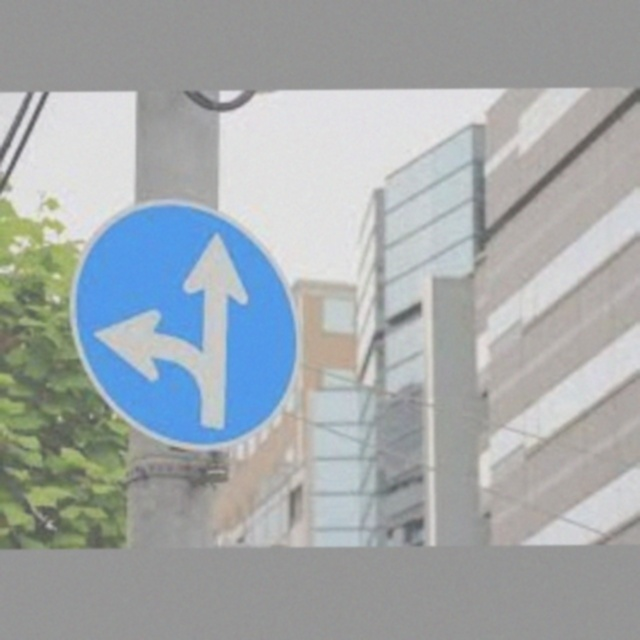Compulsory_Ahead_or_Turn_Left: (71, 196, 305, 440)
